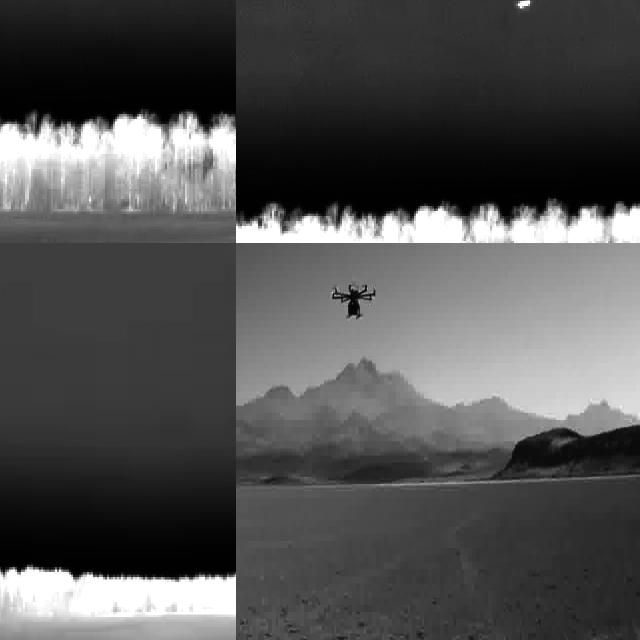1: (508, 0, 544, 21)
drone: (331, 279, 381, 323)
